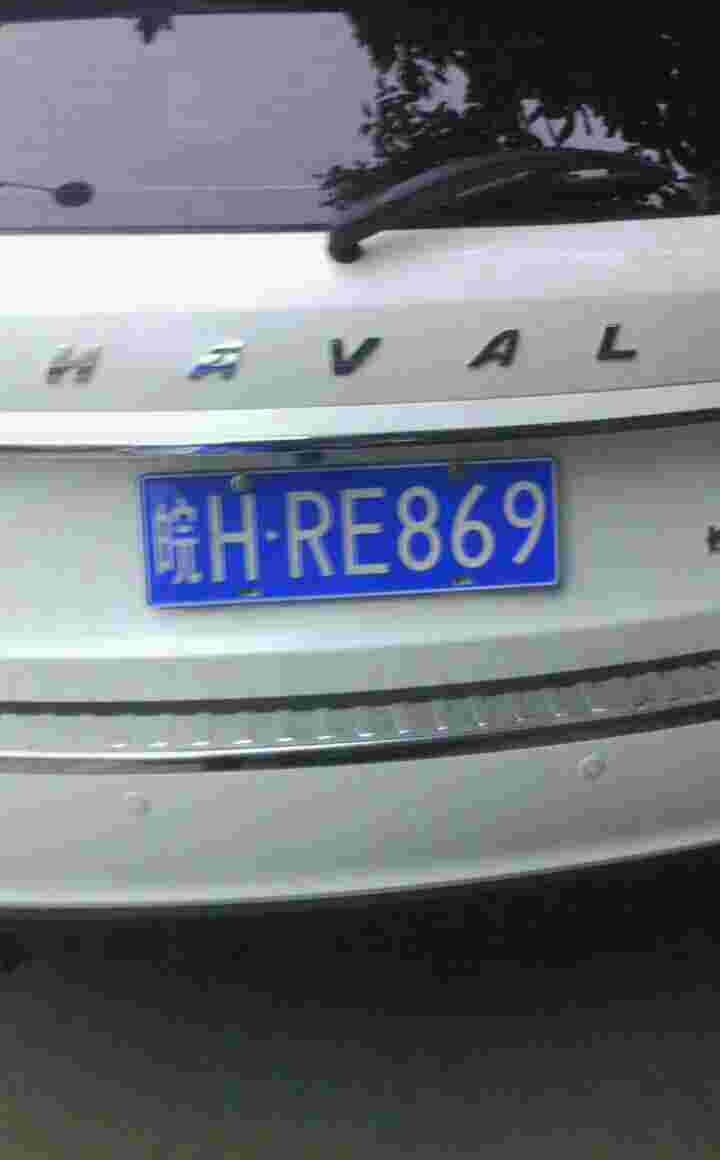license_plate: (141, 463, 559, 608)
